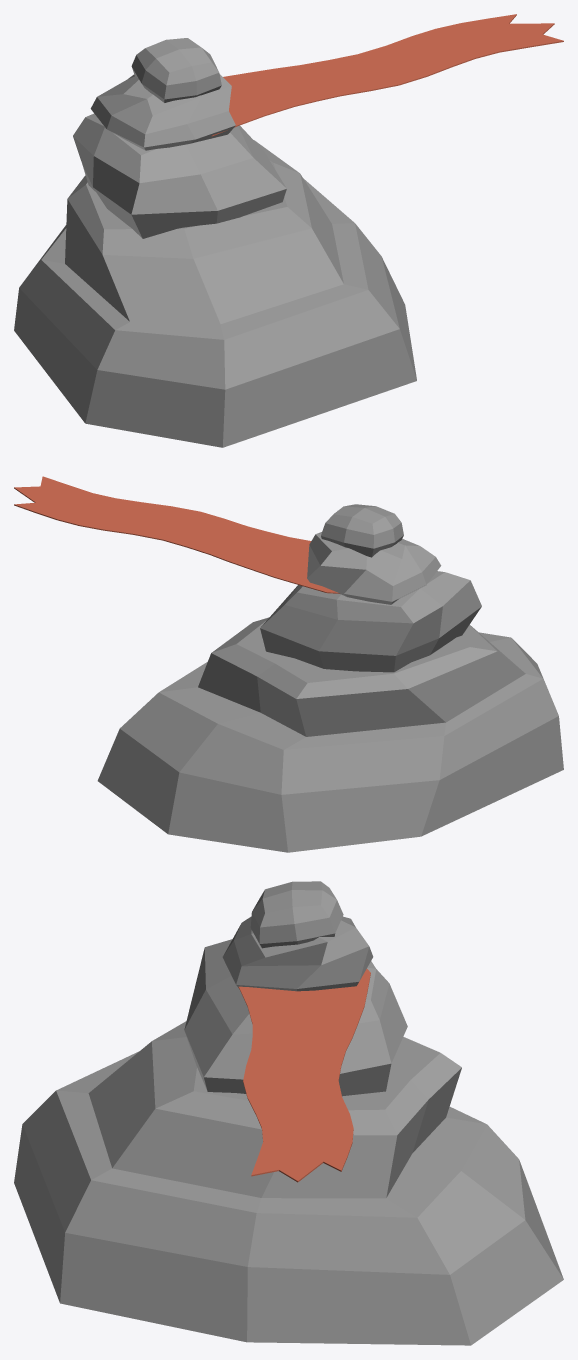
The model's file is Stein_Flag.fbx.
3 renders of one model, top to bottom at view 1: azimuth 30°, elevation 25°; view 2: azimuth 150°, elevation 25°; view 3: azimuth 270°, elevation 25°, orthographic. The views are drawn at different scales.
Parts seen in each view (by area): view 1: Plane.001, Stein_3, Plane.002, Stein_2, Stone; view 2: Plane.001, Stein_3, Plane.002, Stein_2, Stone; view 3: Plane.001, Plane.002, Stein_3, Stein_2, Stone.
Boxes of the visible parts, <box> form: Plane.001: <box>14,140,416,447</box>; Stein_3: <box>73,113,286,238</box>; Plane.002: <box>211,14,563,136</box>; Stein_2: <box>90,74,235,150</box>; Stone: <box>131,38,221,102</box>; Plane.001: <box>97,617,563,852</box>; Stein_3: <box>260,571,481,672</box>; Plane.002: <box>14,476,339,593</box>; Stein_2: <box>307,532,441,604</box>; Stone: <box>321,504,403,557</box>; Plane.001: <box>14,1021,563,1345</box>; Plane.002: <box>238,969,370,1182</box>; Stein_3: <box>184,939,407,1096</box>; Stein_2: <box>222,916,373,991</box>; Stone: <box>250,881,343,948</box>.
Size of the model in its own units: 802 by 419 by 622.
